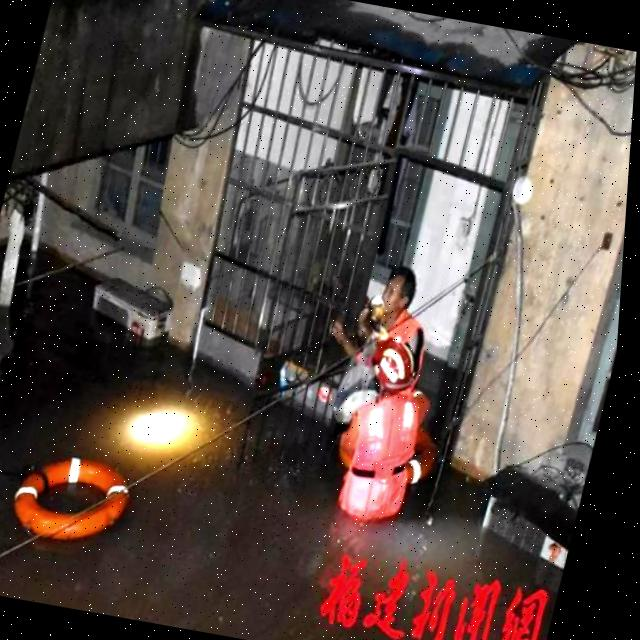civilian: (322, 263, 455, 399)
rescuer: (305, 328, 468, 560)
